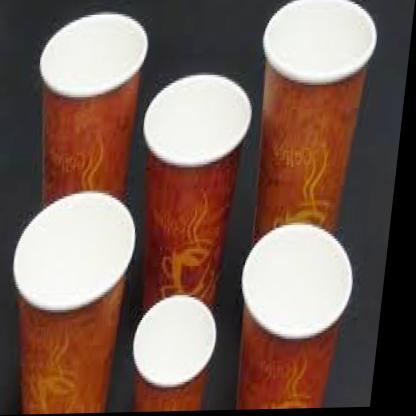Plastic: (0, 0, 410, 415)
